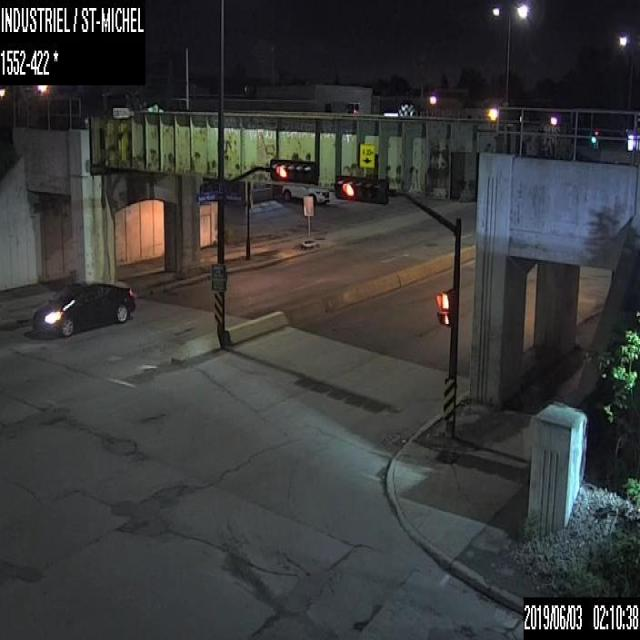construction: (299, 196, 315, 248)
vehicle: (31, 278, 135, 338), (282, 185, 329, 203)
